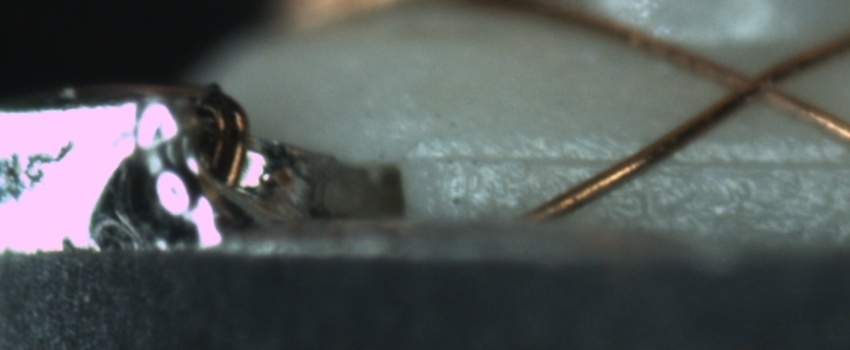CL: (715, 51, 808, 115)
DL: (425, 128, 849, 186)
TE: (184, 75, 256, 191)
